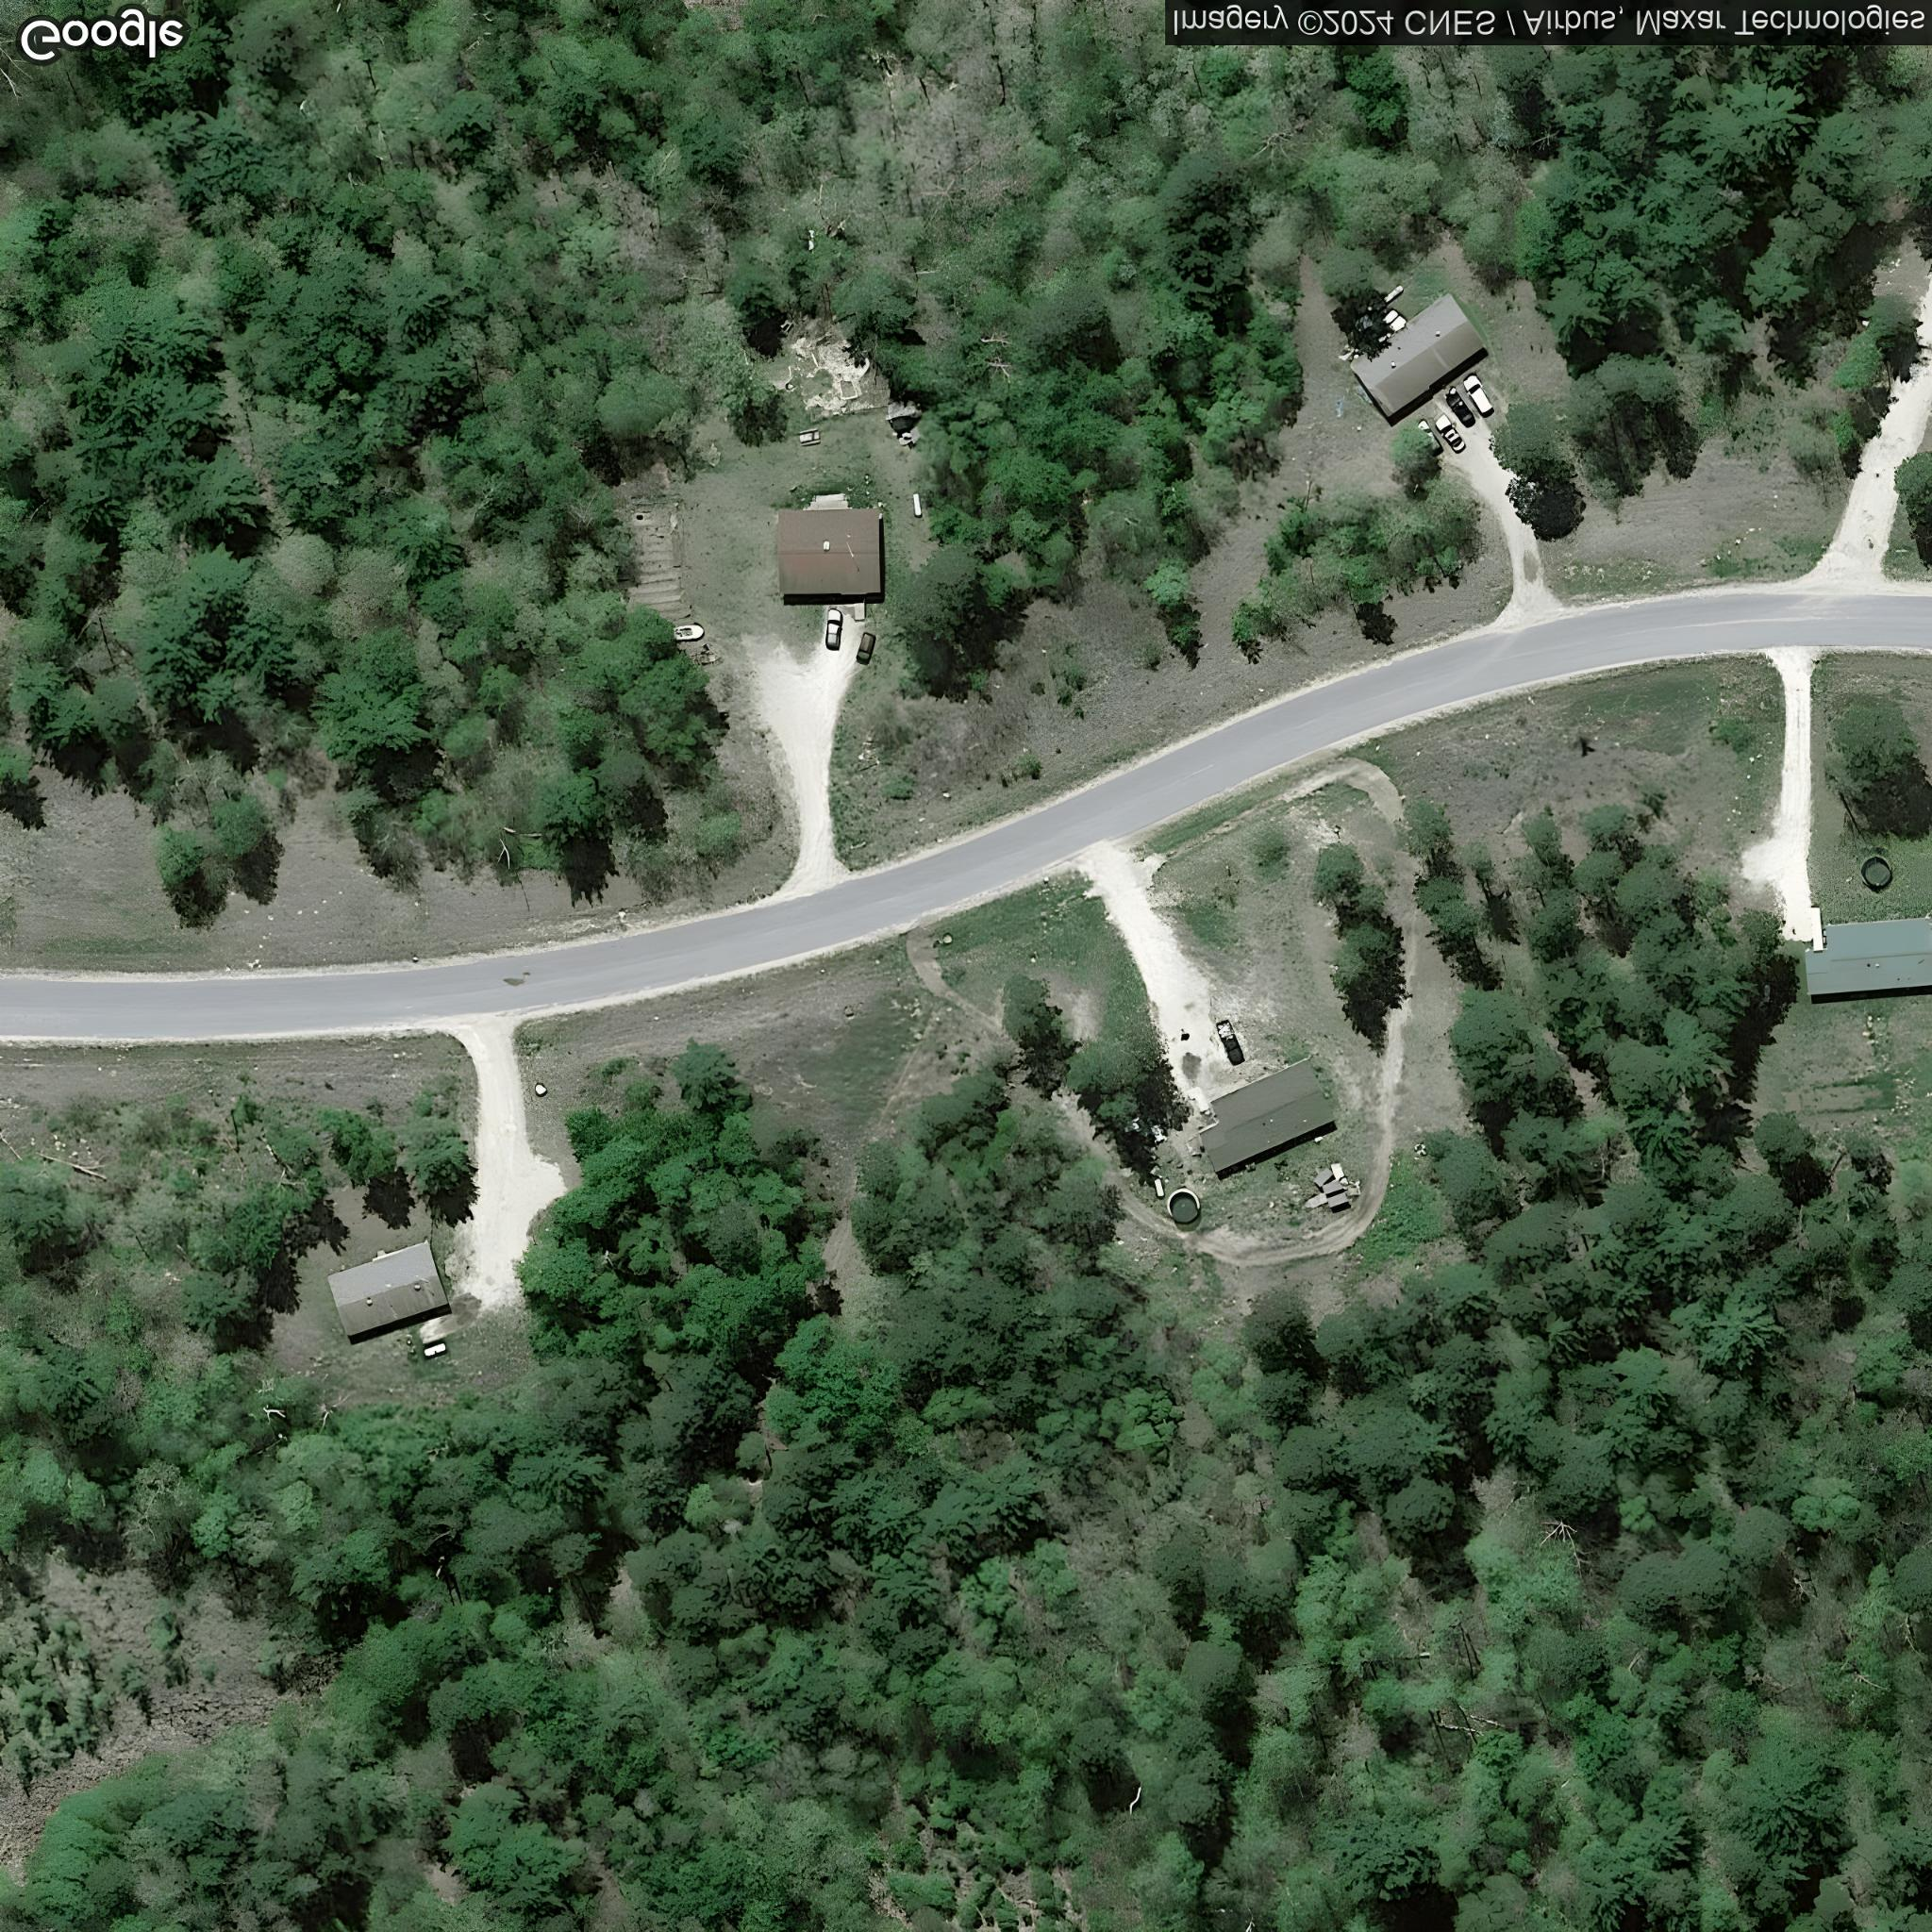House: (1346, 290, 1488, 421), (1198, 1058, 1336, 1175), (326, 1238, 449, 1341), (1803, 915, 1932, 998), (775, 508, 883, 596)
Propane: (1378, 281, 1408, 308), (419, 1339, 451, 1361), (909, 490, 929, 518), (1152, 1175, 1168, 1201)
